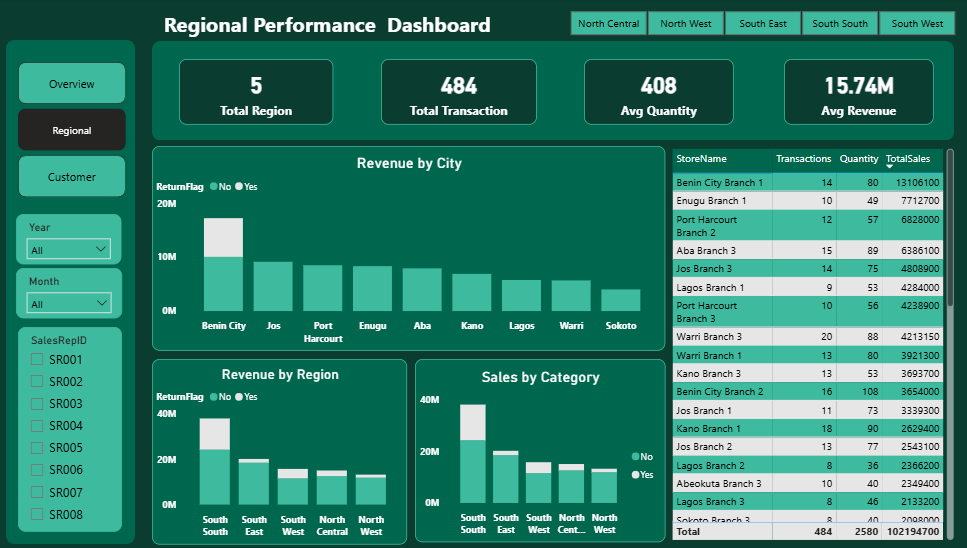

Layout of this report page (visuals, bound fields, positions):
{"tool":"powerbi","page":{"name":"Regional","canvas":[1280,720],"ordinal":1},"visuals":[{"type":"textbox","box":[204,0,504,56],"z":0},{"type":"shape","box":[204,56,1050,130],"z":1000},{"type":"card","fields":{"Values":["Measure.Total Region"]},"box":[240,80,202,86],"z":2000},{"type":"card","fields":{"Values":["CountNonNull(Nigerian_Retail_Sales_Raw11111.TransactionID)"]},"box":[504,80,204,86],"z":3000},{"type":"card","fields":{"Values":["Measure.Average Quantity per Region"]},"box":[770,80,196,86],"z":4000},{"type":"columnChart","title":"Sales by Category","fields":{"Category":["Nigerian_Retail_Sales_Raw11111.Region"],"Y":["Sum(Nigerian_Retail_Sales_Raw11111.TotalSales_NGN)"],"Series":["Nigerian_Retail_Sales_Raw11111.ReturnFlag"]},"box":[548.9,472.3,327.7,240.4],"z":5000},{"type":"card","fields":{"Values":["Measure.Average Revenue per Region"]},"box":[1032,80,196,86],"z":6000},{"type":"pageNavigator","box":[14,166,120,142],"z":7000},{"type":"textbox","box":[215,10,576.7,70],"z":8000},{"type":"shape","box":[13.1,55,168.9,659.8],"z":9000},{"type":"pageNavigator","box":[28.6,84,141.2,178.8],"z":10000},{"type":"slicer","fields":{"Values":["Date.Year Hierarchy.Year"]},"box":[26.8,282.5,137.7,66.1],"z":11000},{"type":"slicer","fields":{"Values":["Nigerian_Retail_Sales_Raw11111.SalesRepID"]},"box":[28.6,430.8,135.9,268.2],"z":12000},{"type":"columnChart","title":"Revenue by City","fields":{"Category":["Nigerian_Retail_Sales_Raw11111.State"],"Y":["Sum(Nigerian_Retail_Sales_Raw11111.TotalSales_NGN)"],"Series":["Nigerian_Retail_Sales_Raw11111.ReturnFlag"]},"box":[204.3,193.6,672.3,268.1],"z":13000},{"type":"tableEx","fields":{"Values":["Nigerian_Retail_Sales_Raw11111.StoreName","Nigerian_Retail_Sales_Raw11111.TransactionID","Sum(Nigerian_Retail_Sales_Raw11111.Quantity)","Sum(Nigerian_Retail_Sales_Raw11111.TotalSales_NGN)"]},"box":[879.6,193.1,379,522],"z":14000},{"type":"columnChart","title":"Revenue by Region","fields":{"Category":["Nigerian_Retail_Sales_Raw11111.Region"],"Y":["Sum(Nigerian_Retail_Sales_Raw11111.TotalSales_NGN)"],"Series":["Nigerian_Retail_Sales_Raw11111.ReturnFlag"]},"box":[204.3,472.3,334,242.6],"z":15000},{"type":"slicer","fields":{"Values":["Nigerian_Retail_Sales_Raw11111.Region"]},"box":[726.7,10,553.3,45],"z":16000},{"type":"slicer","fields":{"Values":["LocalDateTable_c215ab01-d81c-4b8d-8ac1-980cf39dec1b.Month"]},"box":[26.8,354,139.4,66.1],"z":17000}]}

Visuals, with their boxes in screenshot pixels (x1, y1, x2, y2), scaled from the page's 1280x720 canvas onto the 967x548 screenshot:
textbox: {"left": 154, "top": 0, "right": 535, "bottom": 43}
shape: {"left": 154, "top": 43, "right": 947, "bottom": 142}
card - Measure.Total Region: {"left": 181, "top": 61, "right": 334, "bottom": 126}
card - CountNonNull(Nigerian_Retail_Sales_Raw11111.TransactionID): {"left": 381, "top": 61, "right": 535, "bottom": 126}
card - Measure.Average Quantity per Region: {"left": 582, "top": 61, "right": 730, "bottom": 126}
"Sales by Category" columnChart: {"left": 415, "top": 359, "right": 662, "bottom": 542}
card - Measure.Average Revenue per Region: {"left": 780, "top": 61, "right": 928, "bottom": 126}
pageNavigator: {"left": 11, "top": 126, "right": 101, "bottom": 234}
textbox: {"left": 162, "top": 8, "right": 598, "bottom": 61}
shape: {"left": 10, "top": 42, "right": 137, "bottom": 544}
pageNavigator: {"left": 22, "top": 64, "right": 128, "bottom": 200}
slicer - Date.Year Hierarchy.Year: {"left": 20, "top": 215, "right": 124, "bottom": 265}
slicer - Nigerian_Retail_Sales_Raw11111.SalesRepID: {"left": 22, "top": 328, "right": 124, "bottom": 532}
"Revenue by City" columnChart: {"left": 154, "top": 147, "right": 662, "bottom": 351}
tableEx - Nigerian_Retail_Sales_Raw11111.StoreName x Nigerian_Retail_Sales_Raw11111.TransactionID: {"left": 665, "top": 147, "right": 951, "bottom": 544}
"Revenue by Region" columnChart: {"left": 154, "top": 359, "right": 407, "bottom": 544}
slicer - Nigerian_Retail_Sales_Raw11111.Region: {"left": 549, "top": 8, "right": 966, "bottom": 42}
slicer - LocalDateTable_c215ab01-d81c-4b8d-8ac1-980cf39dec1b.Month: {"left": 20, "top": 269, "right": 126, "bottom": 320}
